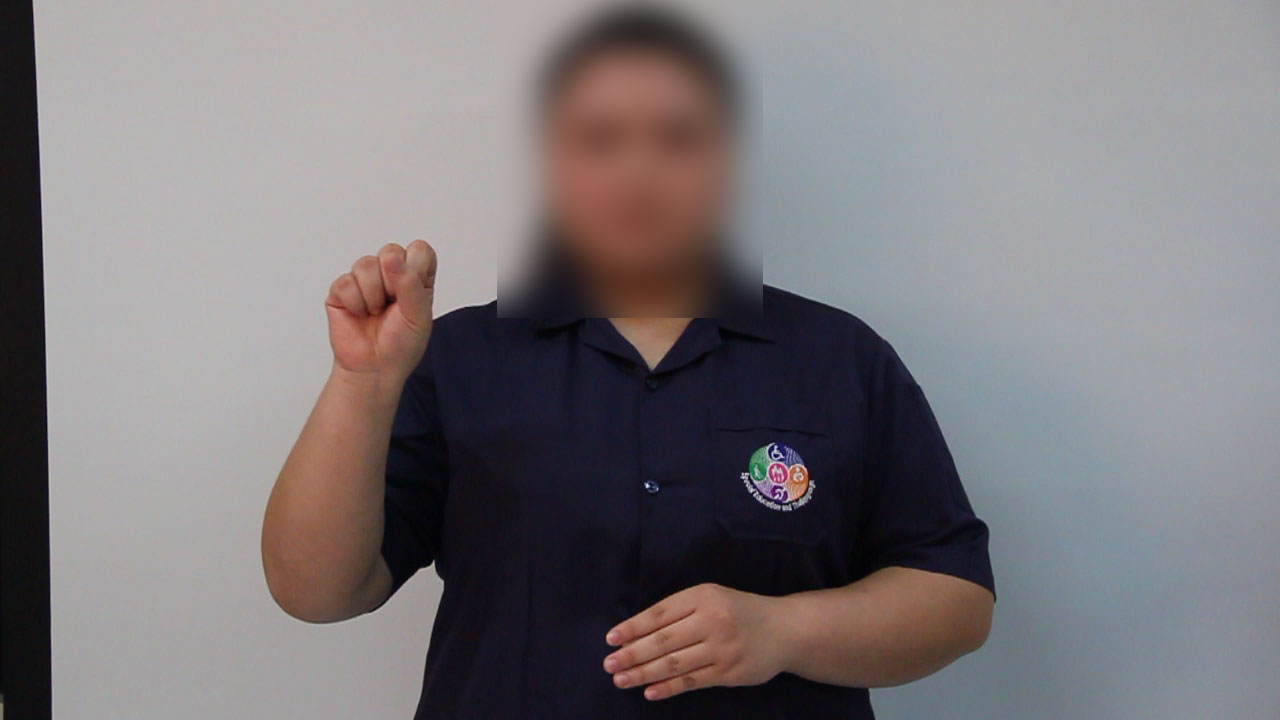sor: (308, 220, 459, 391)
